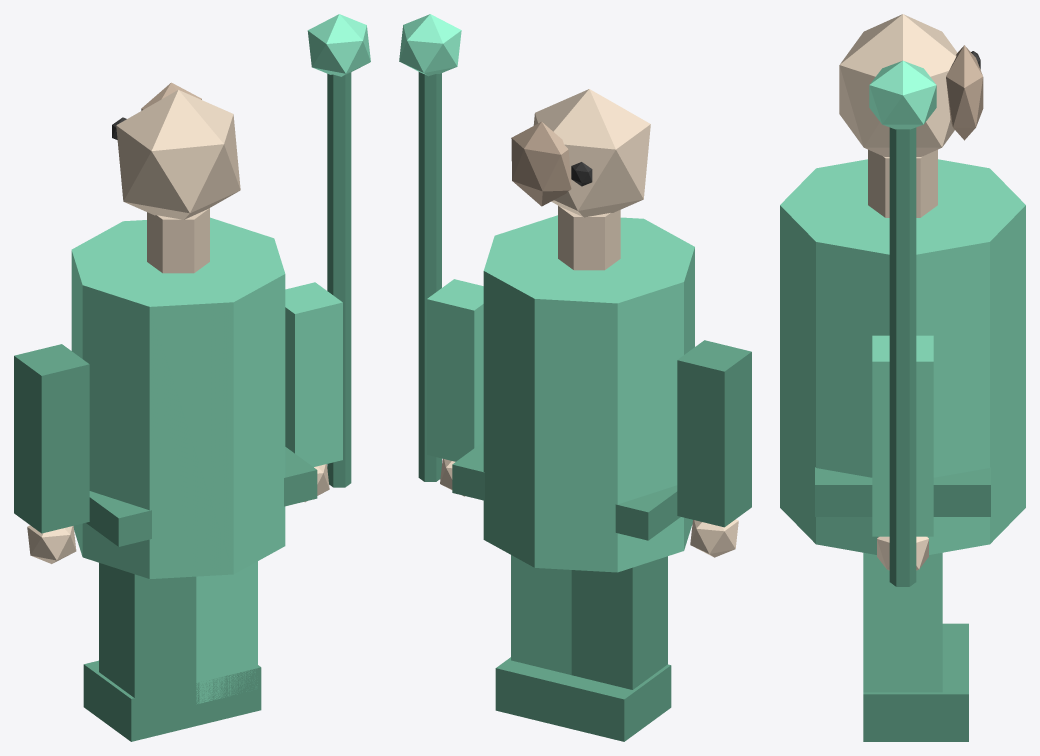
File: herbalist.glb
3 renders of one model, left to right at view 1: azimuth 30°, elevation 25°; view 2: azimuth 150°, elevation 25°; view 3: azimuth 270°, elevation 25°, orthographic. The views are drawn at different scales.
Visible parts, largest first — view 1: herbalist; view 2: herbalist; view 3: herbalist.
Boxes of the visible parts, <box> form: herbalist: <box>14,14,370,741</box>; herbalist: <box>399,14,751,741</box>; herbalist: <box>780,14,1025,741</box>.
Bounding box in the file's own units: 0.9905 × 1.84 × 0.56.
